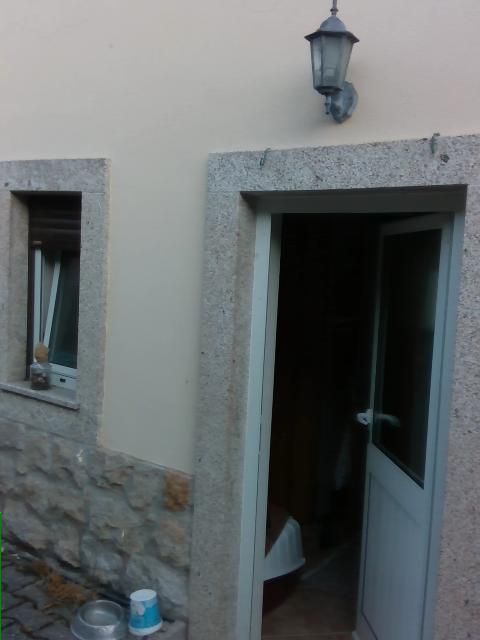semi_door: (235, 181, 466, 639)
